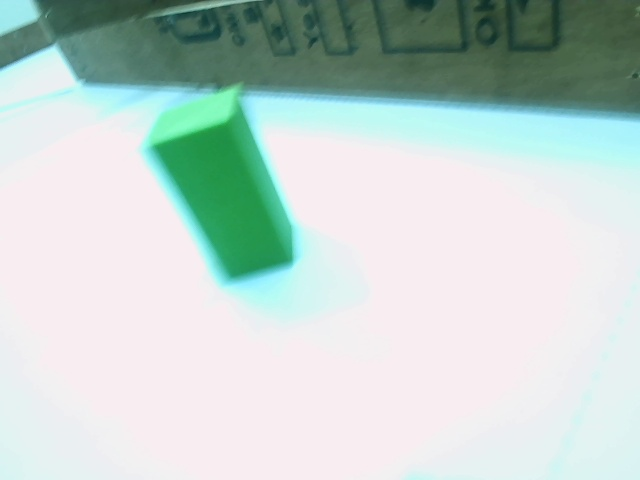green: (147, 101, 309, 285)
